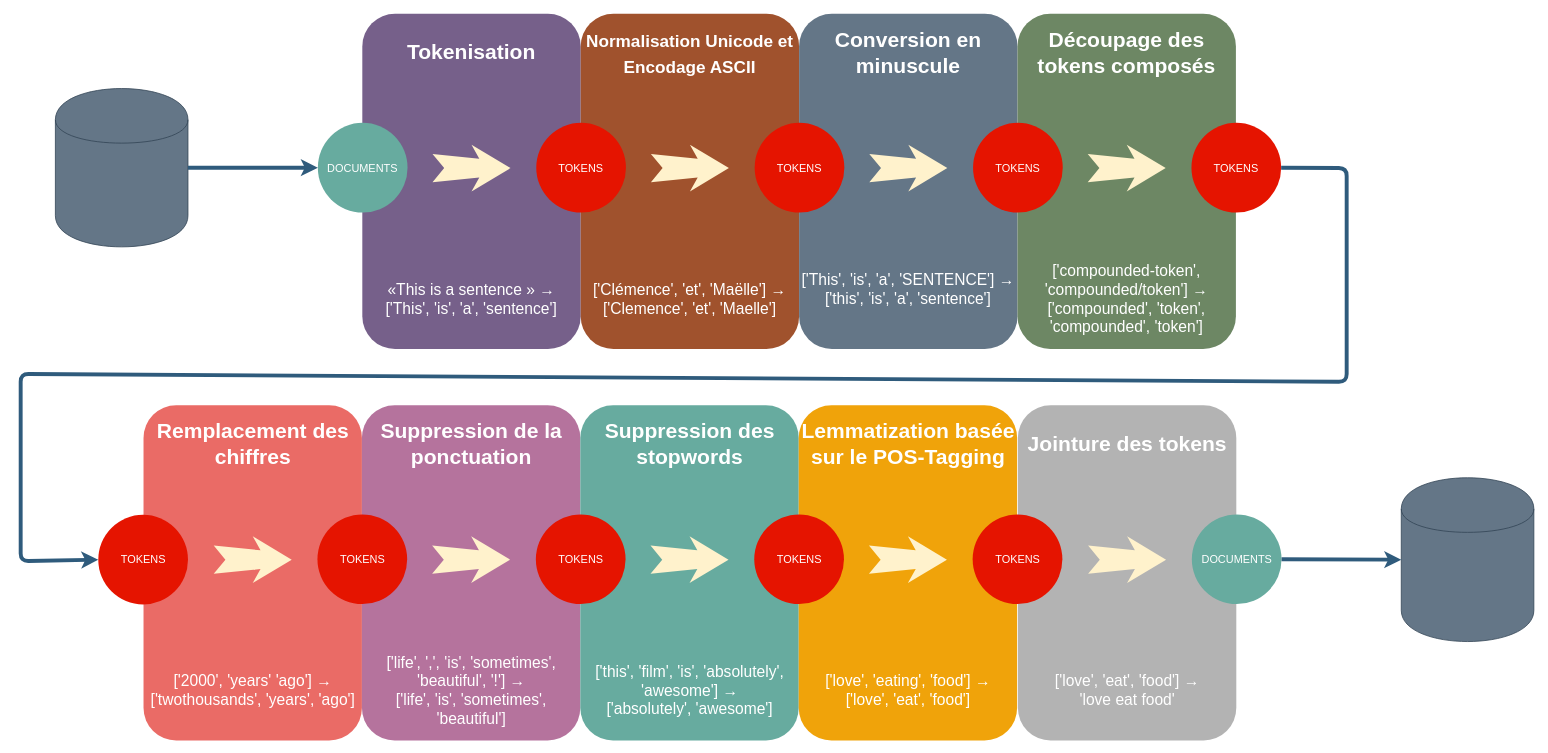
This 1548x753 diagram has some shape labels left out. The box of each missing label's shape, as (x1, y1, x2, y2) in pixels:
Documents prêts pour la tokenisation: (55, 88, 188, 247)
Documents prêts pour la vectorisation: (1400, 477, 1534, 642)
